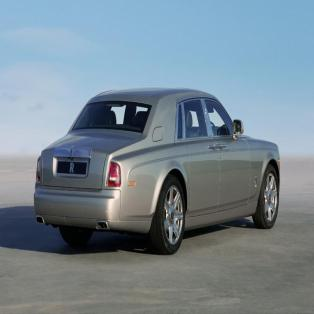Auto: (32, 83, 281, 258)
